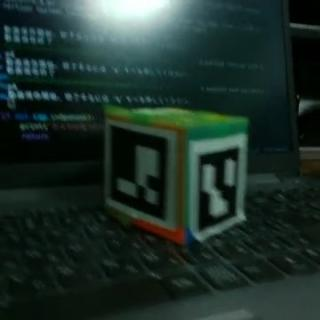armor: (108, 120, 176, 226), (187, 133, 245, 237)
robot: (103, 106, 251, 244)
